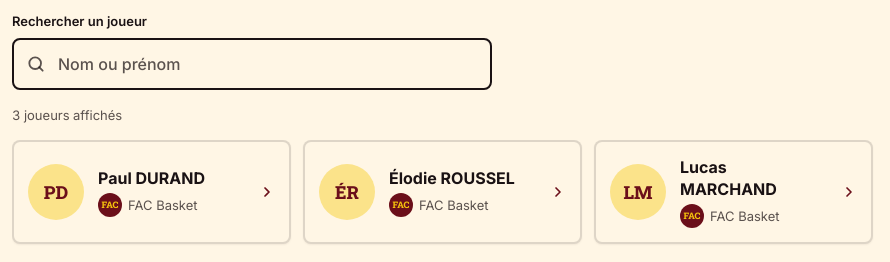
Test: PlayerSearchList › filtre sans accents ni casse et annonce le nombre affiché
Type "ELODIE" into the search field labelled "Rechercher un joueur".
click(252, 64); type("ELODIE")  # box [12,38,492,90]
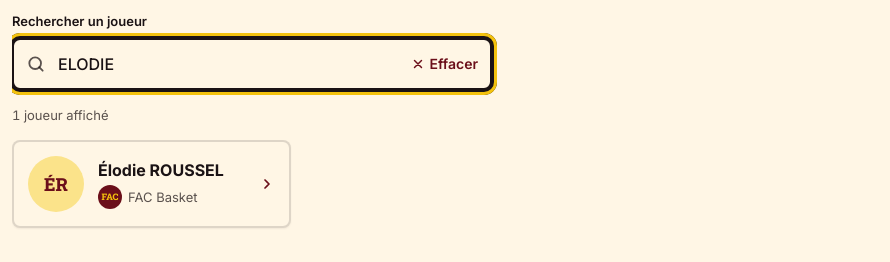
Expected: the number of list items is 1, [12,140,291,228]
Expected: the text "1 joueur affiché" is shown, [12,106,108,122]
